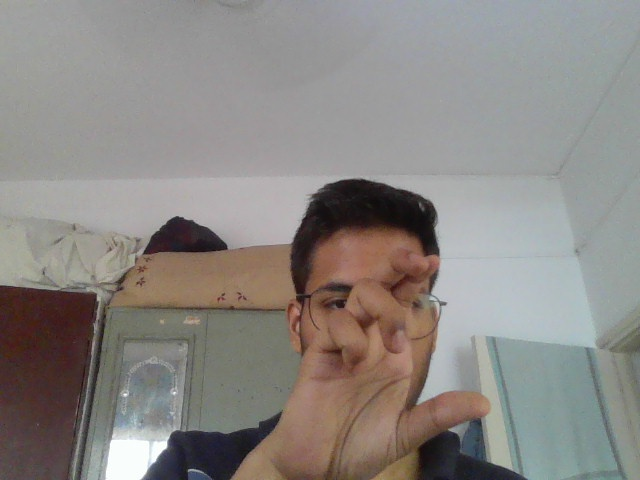no: (271, 244, 497, 480)
